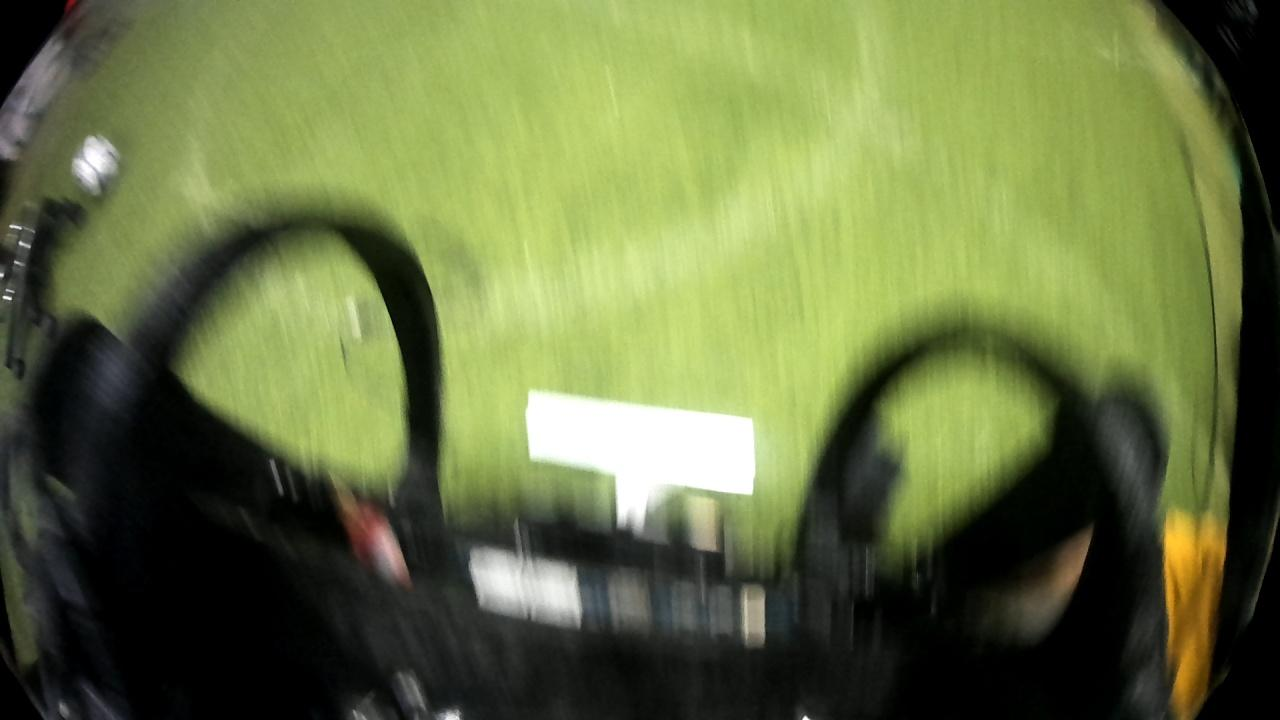ball: (67, 128, 115, 208)
